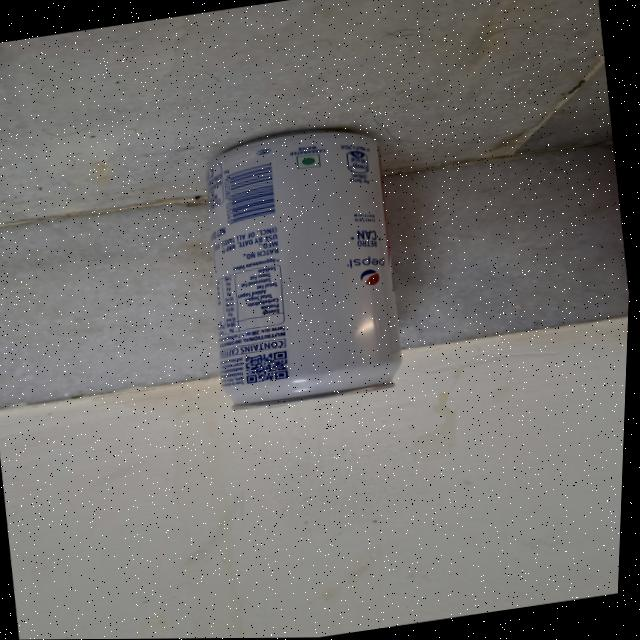Pepsi Retro: (172, 89, 443, 432)
